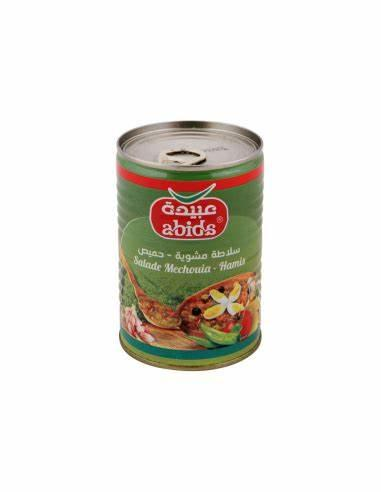metal: (117, 121, 263, 370)
